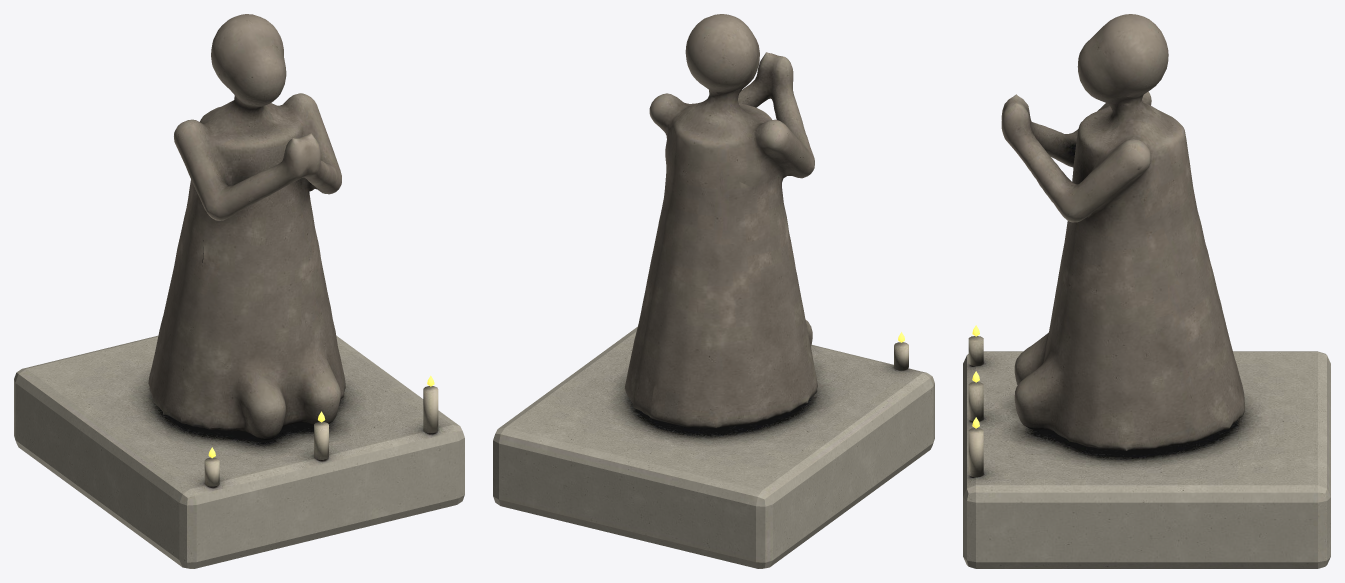
File: canion_suplicante_a.glb
3 renders of one model, left to right at view 1: azimuth 30°, elevation 25°; view 2: azimuth 150°, elevation 25°; view 3: azimuth 270°, elevation 25°, orthographic. The views are drawn at different scales.
Parts seen in each view (by area): view 1: canion_suplicante_a_tronco; view 2: canion_suplicante_a_tronco; view 3: canion_suplicante_a_tronco.
Boxes of the visible parts, box(x1,y1,x2,y2) form: canion_suplicante_a_tronco: box(14, 14, 464, 568); canion_suplicante_a_tronco: box(493, 14, 934, 568); canion_suplicante_a_tronco: box(963, 14, 1330, 568).
Bounding box in the file's own units: 1.3 × 2.03 × 1.4.
4 materials, 1 textured.
